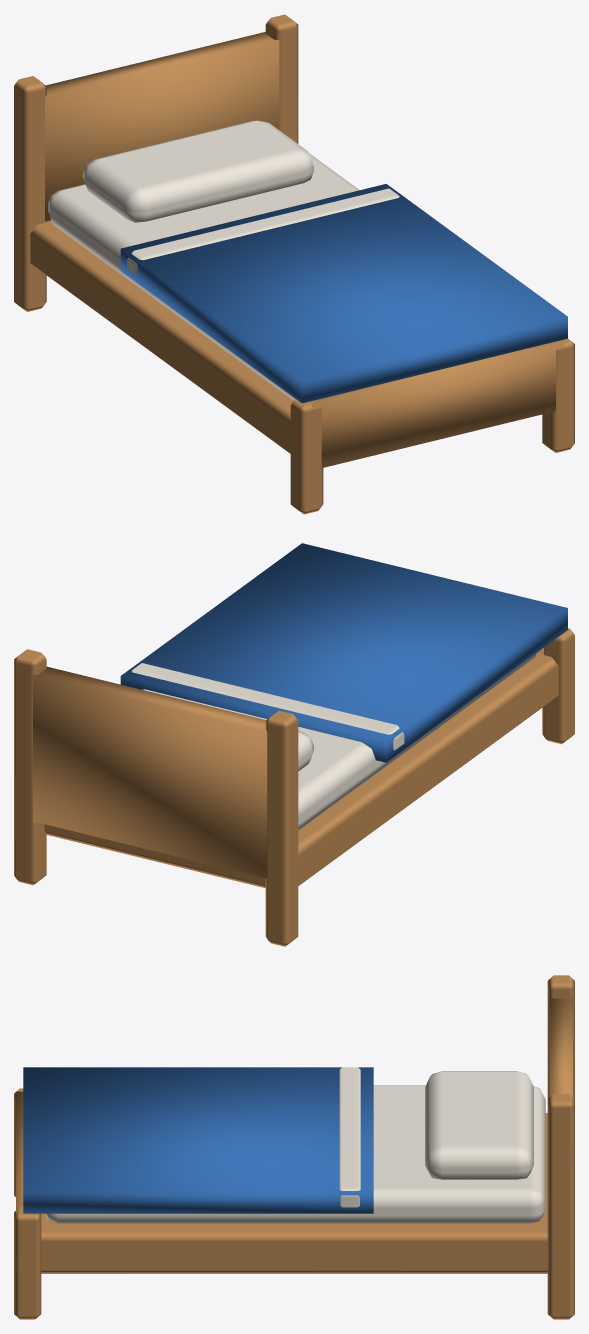
Rendered from bed_single.glb.
3 renders of one model, top to bottom at view 1: azimuth 30°, elevation 25°; view 2: azimuth 150°, elevation 25°; view 3: azimuth 270°, elevation 25°, orthographic. The views are drawn at different scales.
Parts seen in each view (by area): view 1: bed_single; view 2: bed_single; view 3: bed_single.
Boxes of the visible parts, x1,y1,x2,y2 form: bed_single: (14,14,574,514); bed_single: (14,543,574,946); bed_single: (14,975,574,1319).
Bounding box in the file's own units: 0.79 × 0.62 × 1.44.
